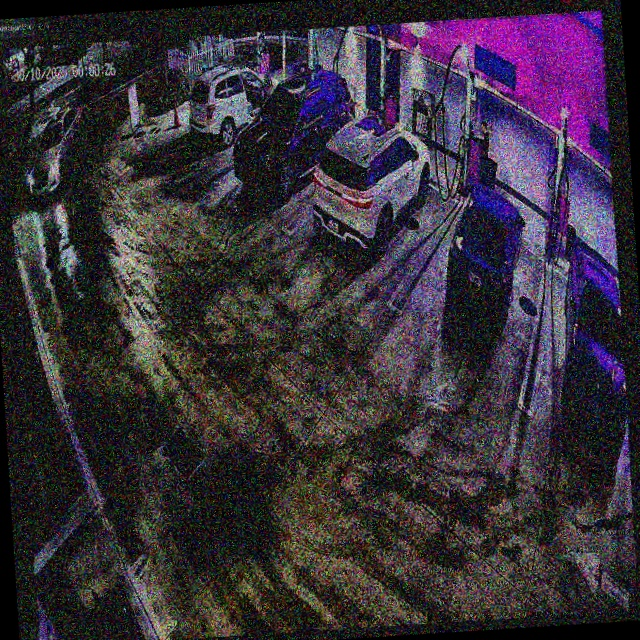Car: (314, 108, 435, 262), (227, 64, 360, 204), (441, 180, 530, 331), (186, 61, 288, 144)
